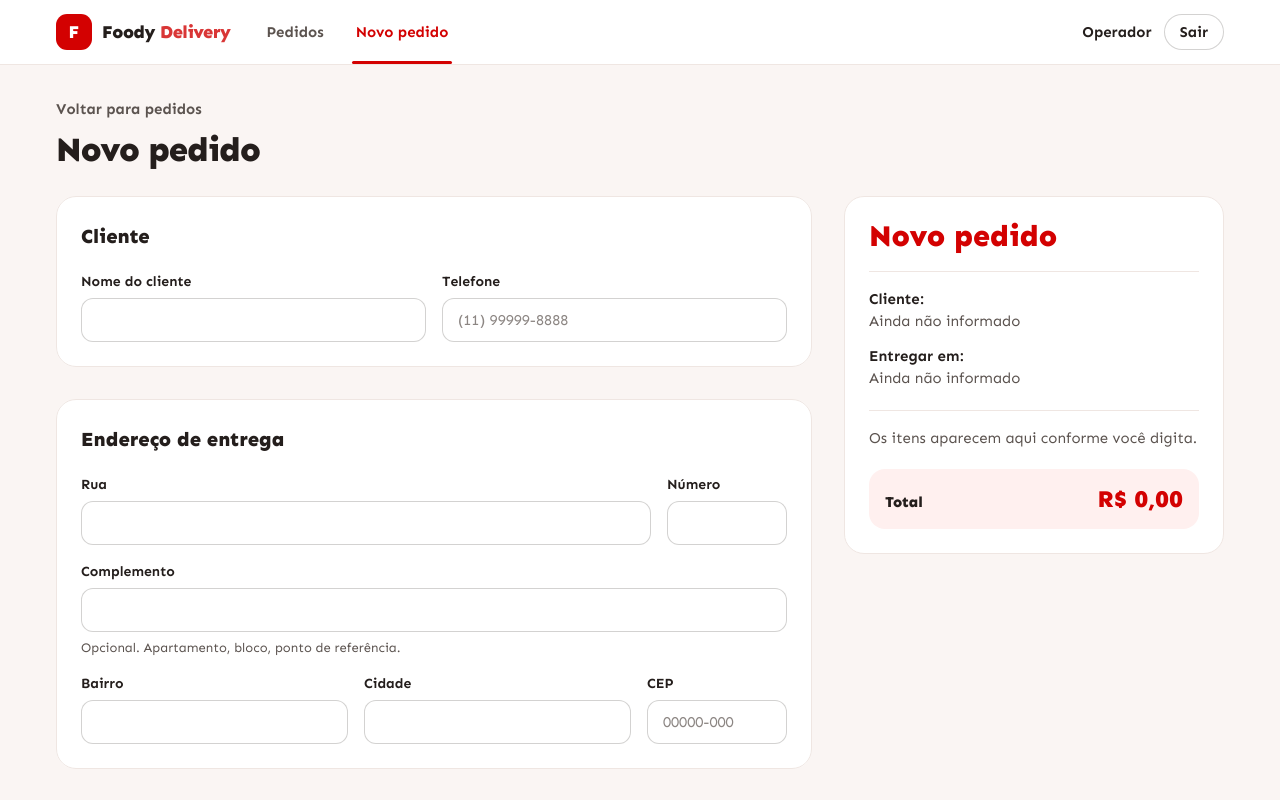
Test: novo pedido › não deixa digitar letras em telefone, CEP, quantidade e preço
This screenshot has width=1280, height=800.
Type "tel 11a99999b8888" into the field labelled "Telefone". click: (614, 320)
box: [442,298,787,342]
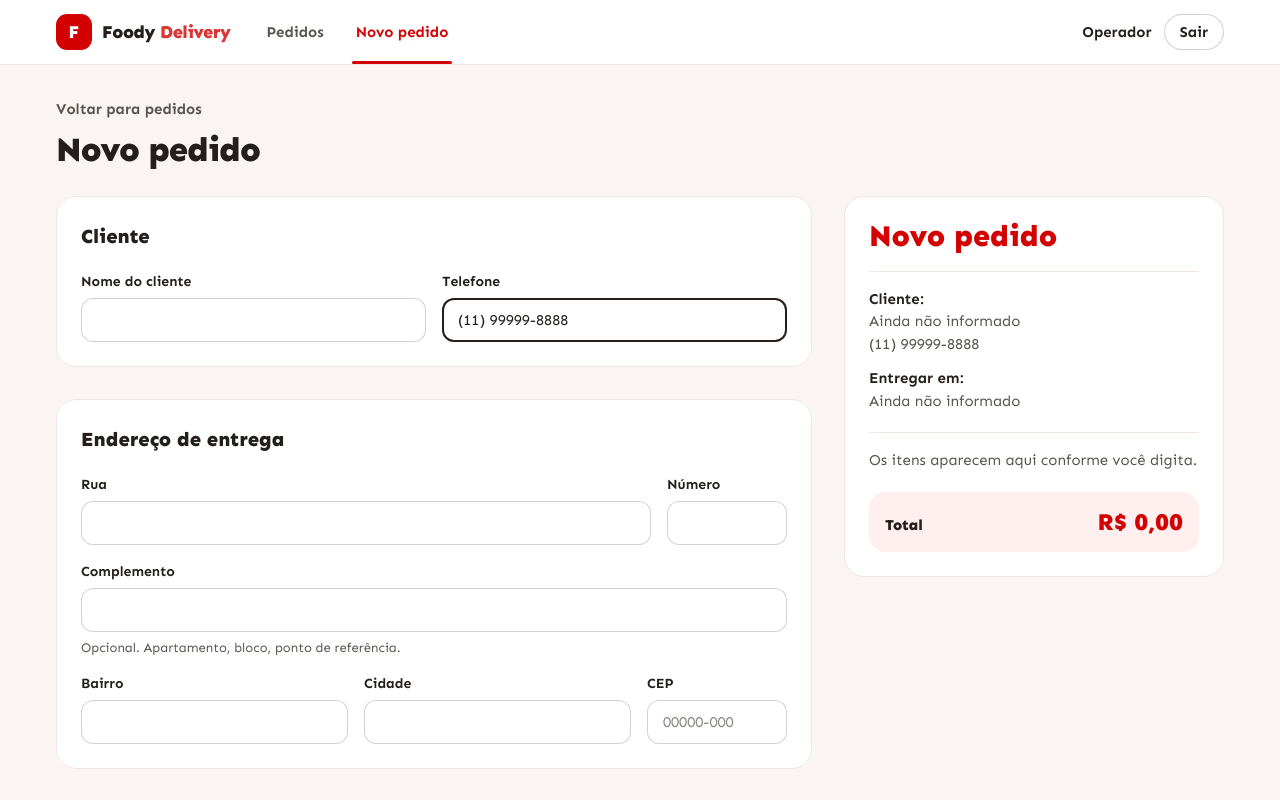
Type "01310abc100" into the field labelled "CEP". click: (717, 722)
box: [647,700,787,744]
(page scrolled)
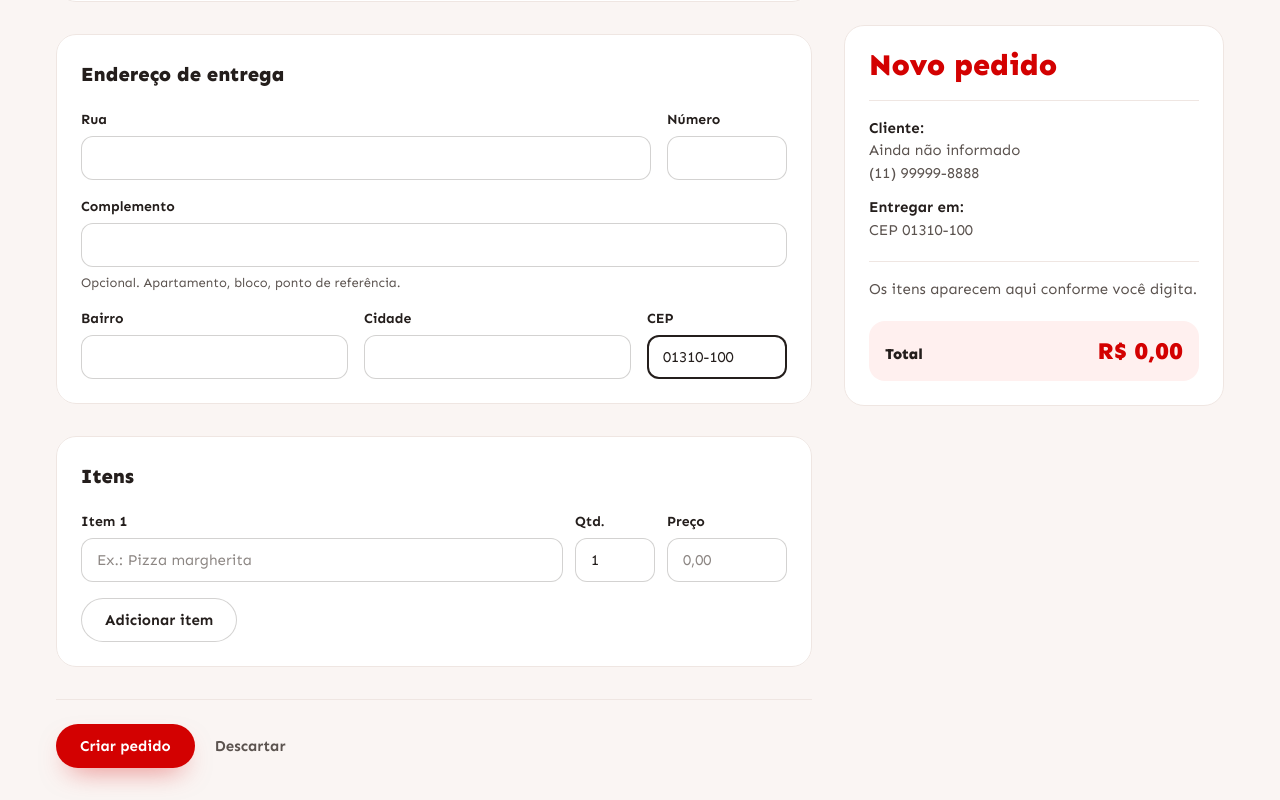
Replace the text in the field named "Quantidade do item 1" with "x2y". click: (615, 560)
box: [575,538,655,582]
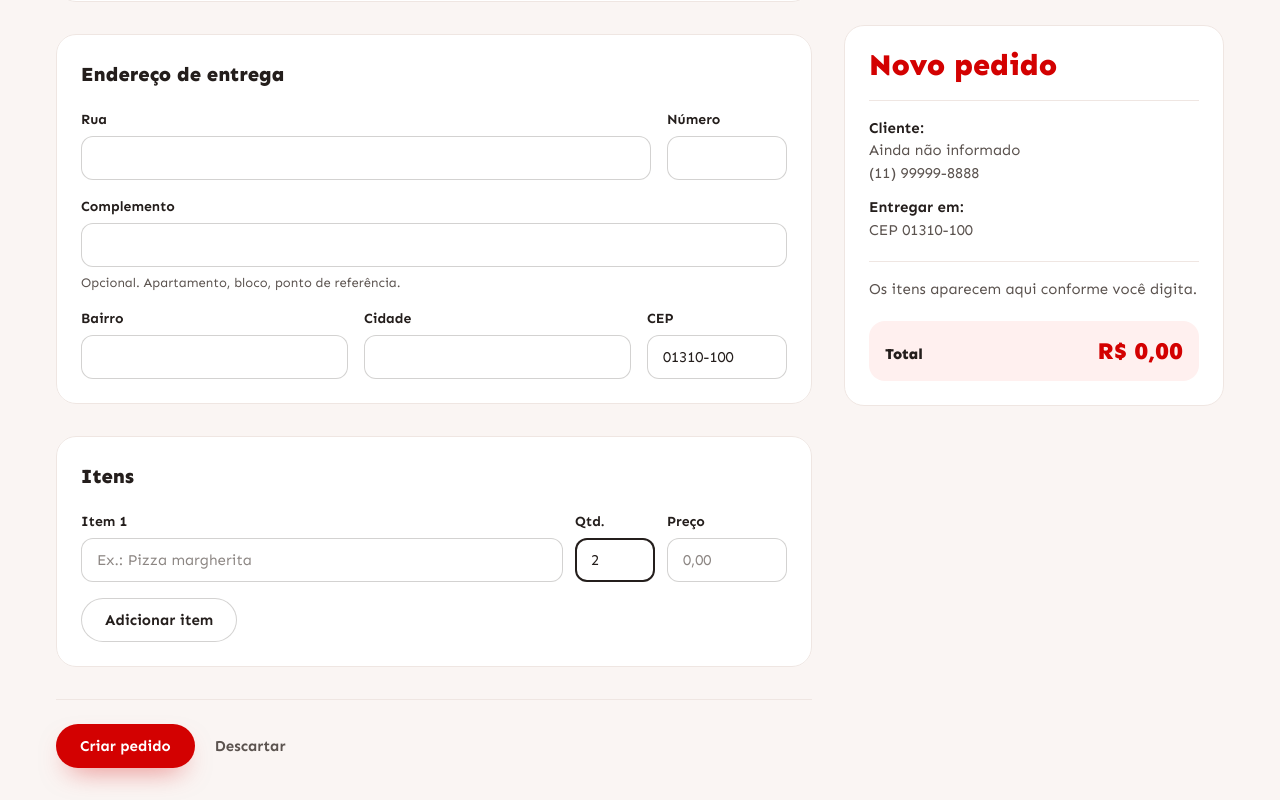
Type "R$ 45,999" into the field named "Preço unitário do item 1". click: (727, 560)
box: [667,538,787,582]
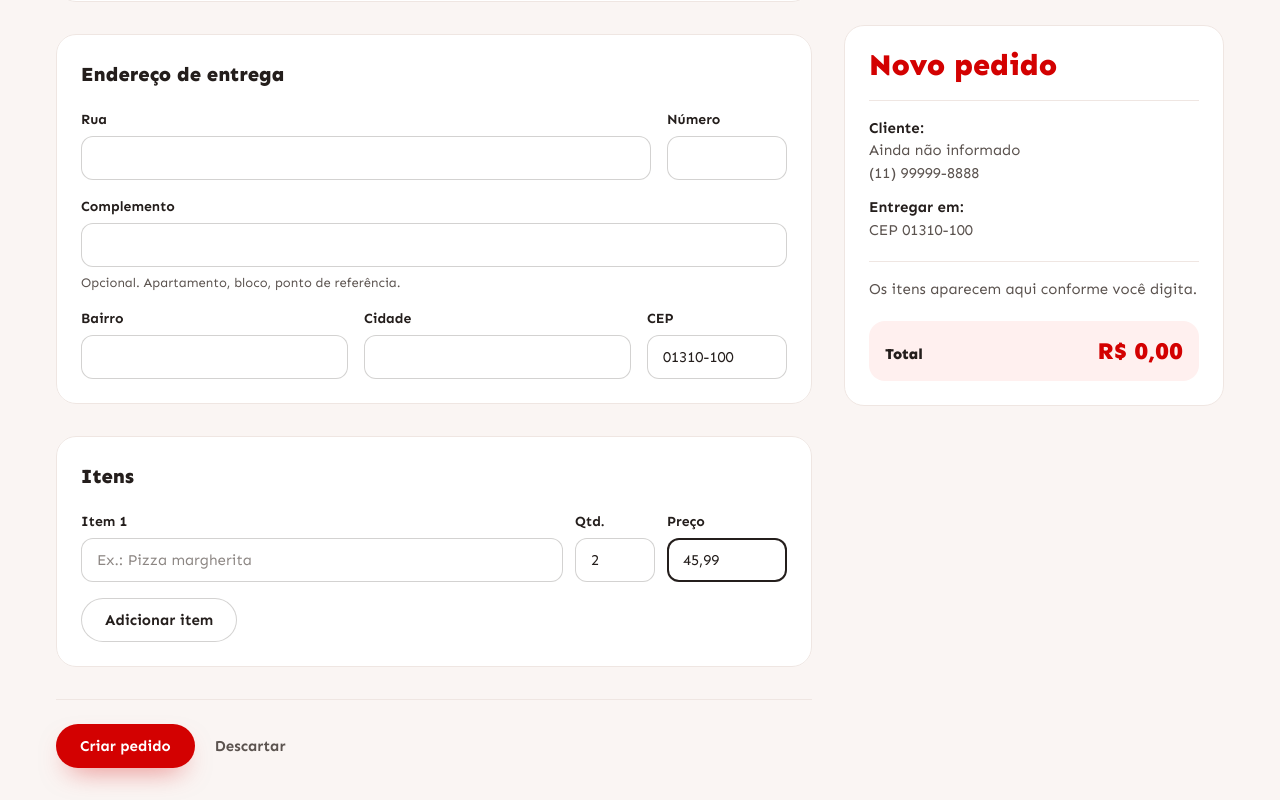
Expected: the field labelled "CEP" holds "01310-100", [647,335,787,379]
Expected: the field named "Quantidade do item 1" holds "2", [575,538,655,582]
Expected: the field named "Preço unitário do item 1" holds "45,99", [667,538,787,582]
